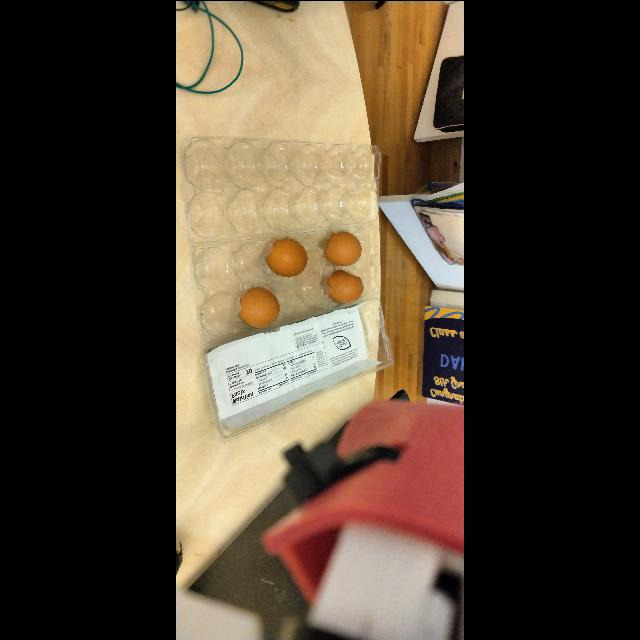Egg: (255, 226, 319, 286), (230, 280, 286, 332), (318, 226, 370, 272), (319, 267, 369, 307)
